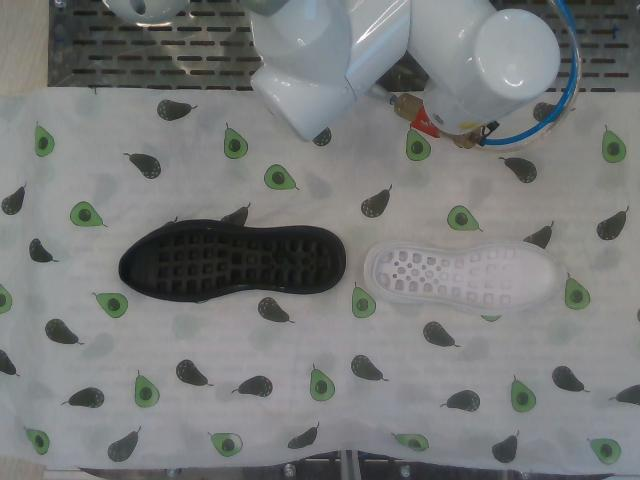shoes: (120, 229, 340, 295), (375, 245, 566, 309)
